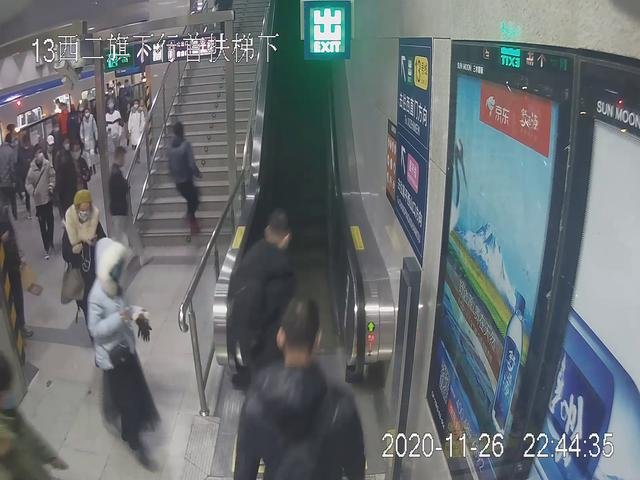person: (236, 300, 366, 480), (76, 236, 165, 480), (59, 187, 114, 354), (102, 146, 155, 274), (161, 119, 206, 235), (25, 144, 62, 261), (78, 106, 101, 183), (127, 99, 147, 167), (102, 99, 125, 157)
